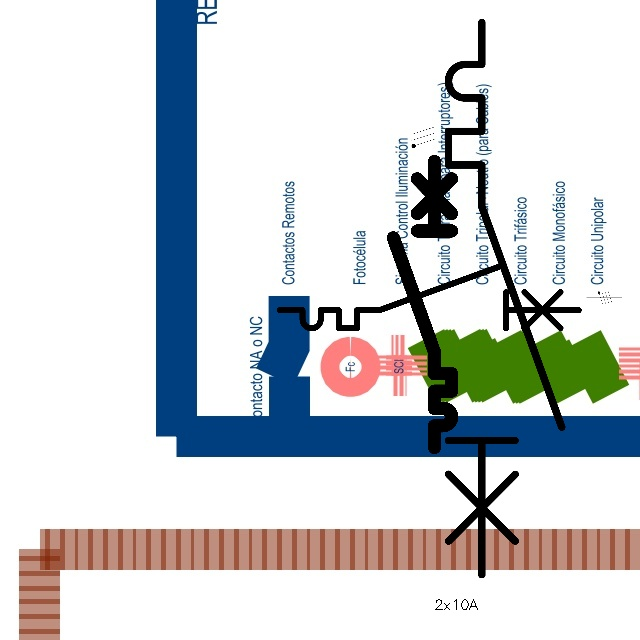interruptor_termomagnetico: (434, 8, 576, 589), (272, 259, 586, 336), (386, 154, 459, 455)
